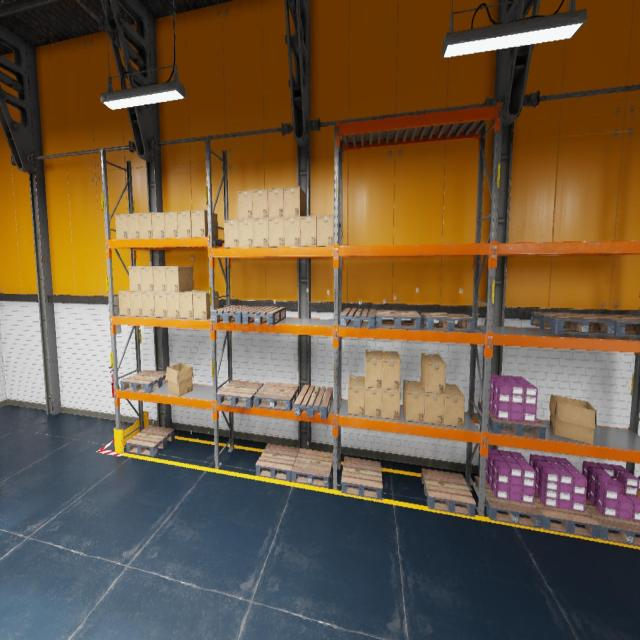box: (550, 394, 596, 444), (420, 353, 446, 394), (420, 382, 444, 425), (165, 363, 194, 396), (403, 380, 425, 422), (444, 383, 464, 428), (190, 209, 218, 239), (192, 290, 218, 319), (180, 290, 206, 318), (165, 266, 193, 292), (382, 351, 400, 390), (284, 187, 306, 217), (365, 350, 382, 388), (348, 376, 364, 415), (382, 388, 400, 419), (365, 387, 382, 418), (317, 215, 334, 246), (300, 216, 317, 246), (284, 217, 300, 246), (268, 188, 284, 217), (252, 189, 268, 218), (268, 218, 284, 246), (238, 219, 254, 247), (253, 218, 268, 247), (224, 219, 239, 248), (238, 190, 252, 218), (177, 210, 191, 237), (164, 211, 178, 238), (166, 292, 180, 318), (140, 266, 154, 292), (151, 212, 165, 238), (126, 213, 140, 239), (118, 290, 131, 316), (153, 266, 166, 292), (139, 212, 152, 238), (115, 213, 128, 239), (154, 292, 167, 317), (130, 291, 142, 316), (142, 292, 154, 316), (129, 267, 141, 291)
pallets: (474, 476, 542, 528), (534, 493, 599, 539), (421, 468, 476, 517), (585, 498, 640, 546), (478, 402, 546, 438), (530, 312, 616, 335), (341, 456, 383, 500), (255, 443, 299, 481), (292, 448, 332, 488), (126, 426, 174, 456), (216, 380, 264, 408), (294, 385, 333, 419), (254, 382, 299, 411), (584, 314, 640, 336), (420, 312, 476, 332), (120, 370, 168, 393), (376, 309, 421, 330), (211, 305, 257, 324), (242, 306, 286, 325), (340, 308, 376, 329)
